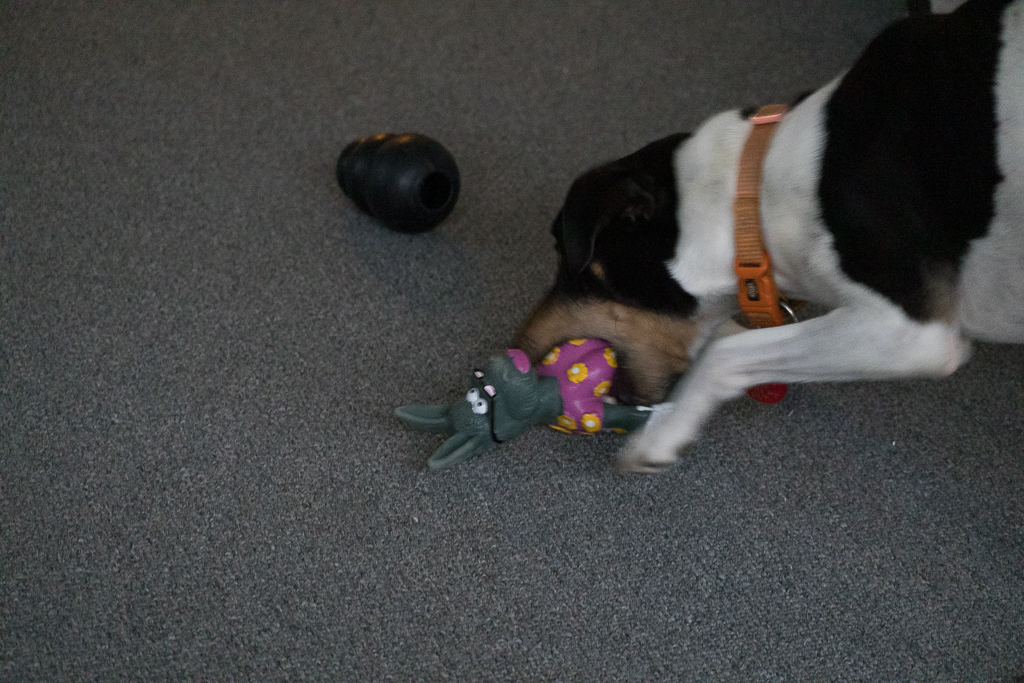Dog: (486, 0, 1024, 487)
Humanoid: (385, 327, 709, 481)
